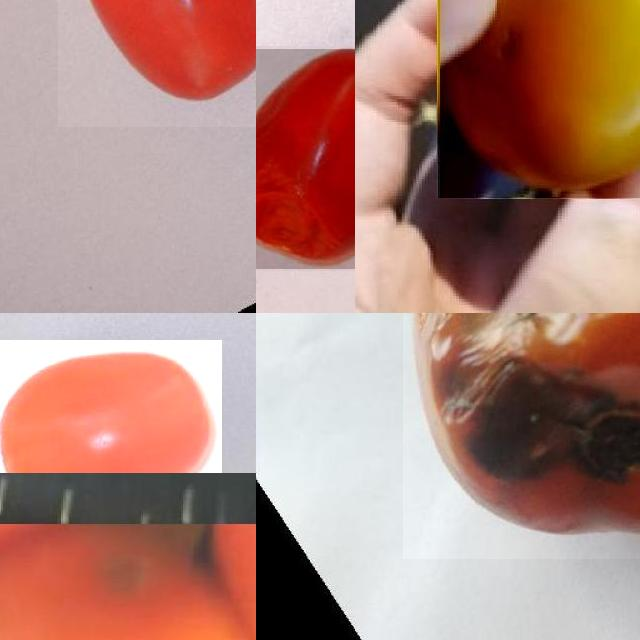1: (438, 0, 640, 197), (256, 48, 355, 269)
Fresh Tomato: (0, 524, 256, 640), (0, 340, 222, 473), (58, 0, 256, 127)
Rotten Tomato: (403, 313, 640, 559)
